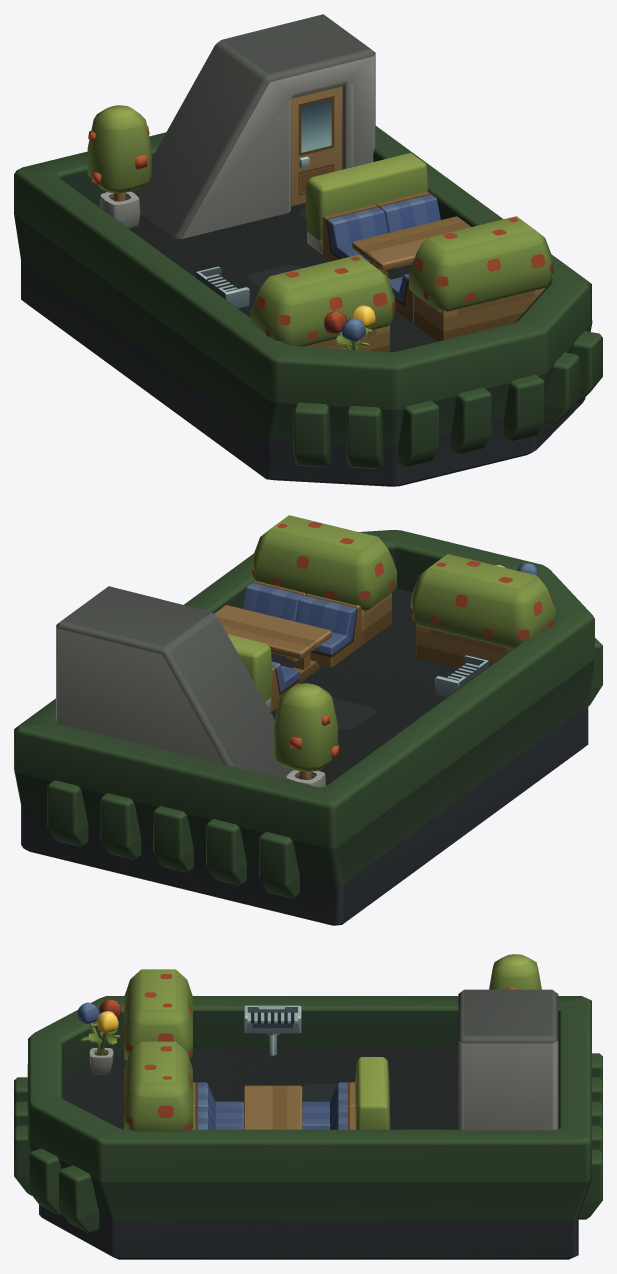
File: appartment_type4_roof_type2_flat_brown_deco.fbx
3 views of the same model, one above another, from view 1: azimuth 30°, elevation 25°; view 2: azimuth 150°, elevation 25°; view 3: azimuth 270°, elevation 25° (orthographic). The views are drawn at different scales.
Visible parts, largest first — view 1: appartment_type4_roof_type2_flat_brown_deco, door_wood_rooftop_doorway; view 2: appartment_type4_roof_type2_flat_brown_deco; view 3: appartment_type4_roof_type2_flat_brown_deco.
Boxes of the visible parts, x1,y1,x2,y2 form: appartment_type4_roof_type2_flat_brown_deco: (14,14,602,486); door_wood_rooftop_doorway: (291,86,342,206); appartment_type4_roof_type2_flat_brown_deco: (14,515,602,925); appartment_type4_roof_type2_flat_brown_deco: (14,954,602,1259).
Bounding box in the file's own units: 610 × 410 × 1032.
